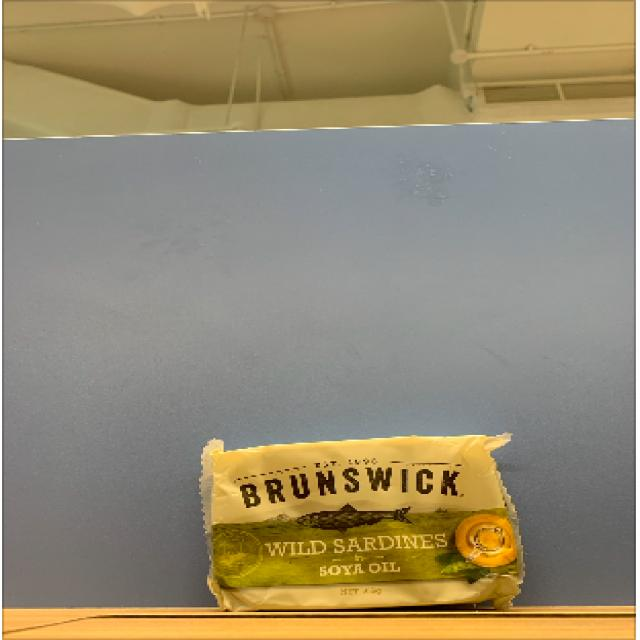object_name: (205, 444, 519, 607)
